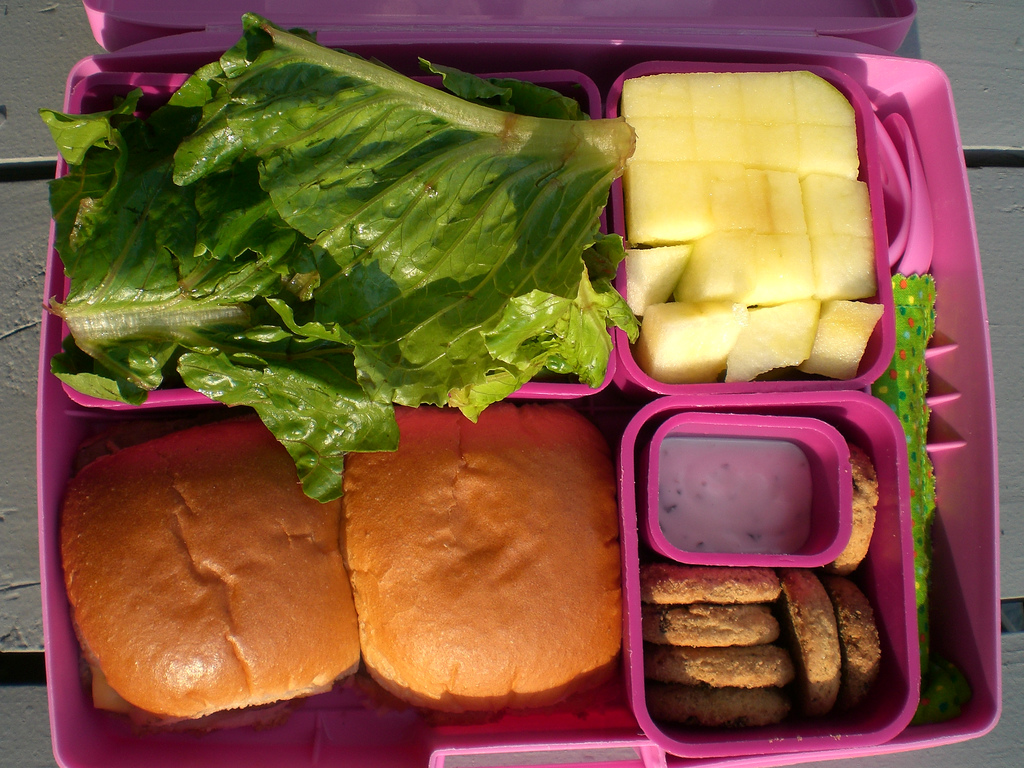chopped lettuce: (68, 65, 586, 394)
slice of bread: (353, 418, 615, 709), (75, 439, 349, 705)
